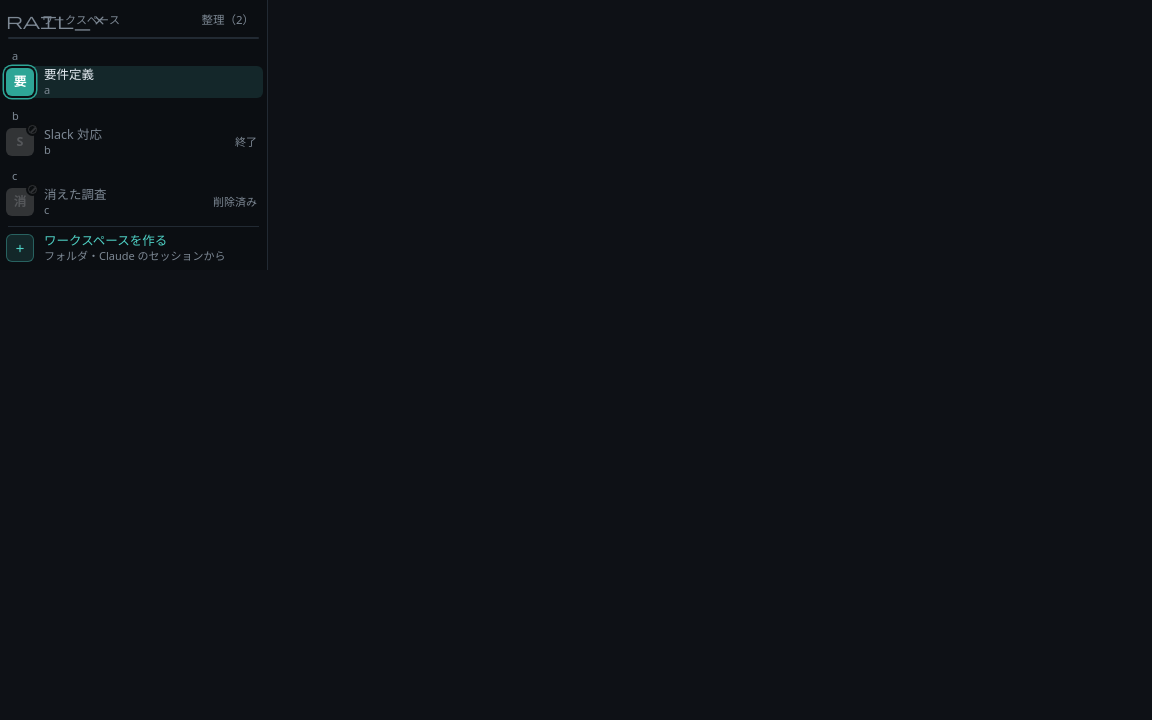
Claude のセッションの終わり › 開いた一覧では「終了」と出し、頭の「整理」から選んでまとめて削除する
Check: the text with class "mg-wsrail-state" reads "終了", box left=235, top=134, right=257, bottom=149
Check: the text with class "mg-wsrail-state" reads "削除済み", box left=213, top=194, right=257, bottom=209
Step 1. Click the button with class "mg-wsrail-tidy" → {"x": 228, "y": 20}, box left=194, top=9, right=261, bottom=31
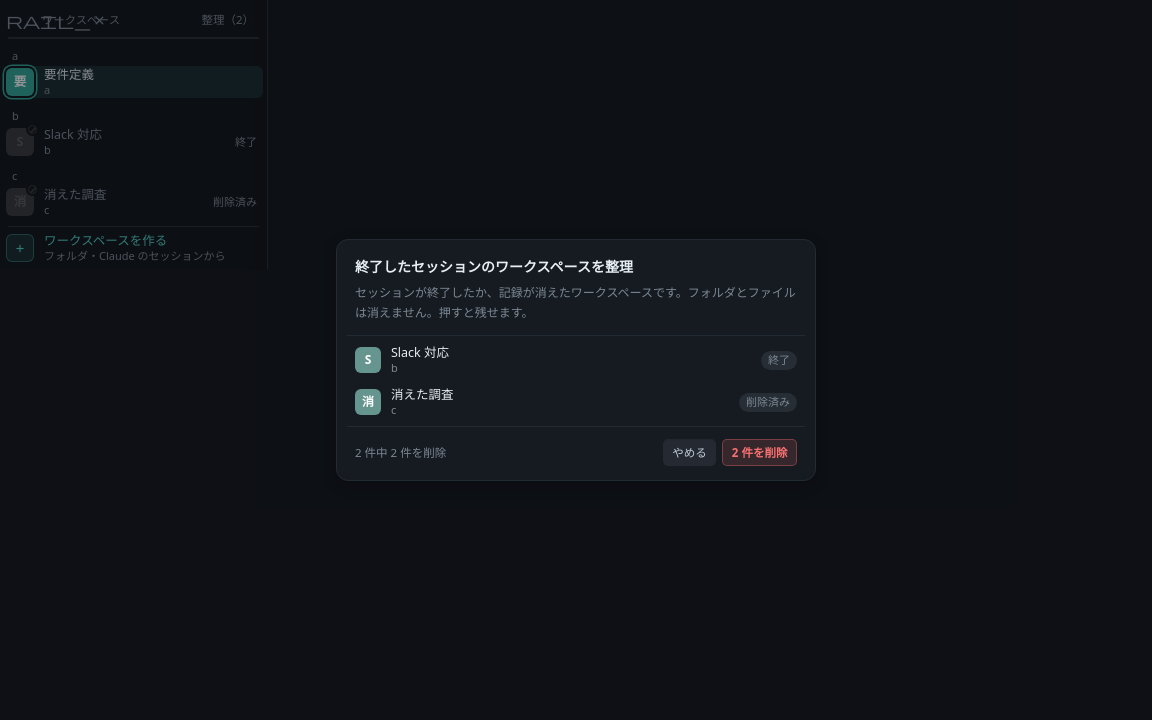
Check: the number of buttons with class "mg-tidy-row" is 2
Note: 1 件押すと「残す」に替わり、残りだけを削除する。
Step 2. Click the button with class "mg-tidy-row" showing "S Slack 対応 b 終了" → {"x": 420, "y": 352}, box left=347, top=340, right=805, bottom=380
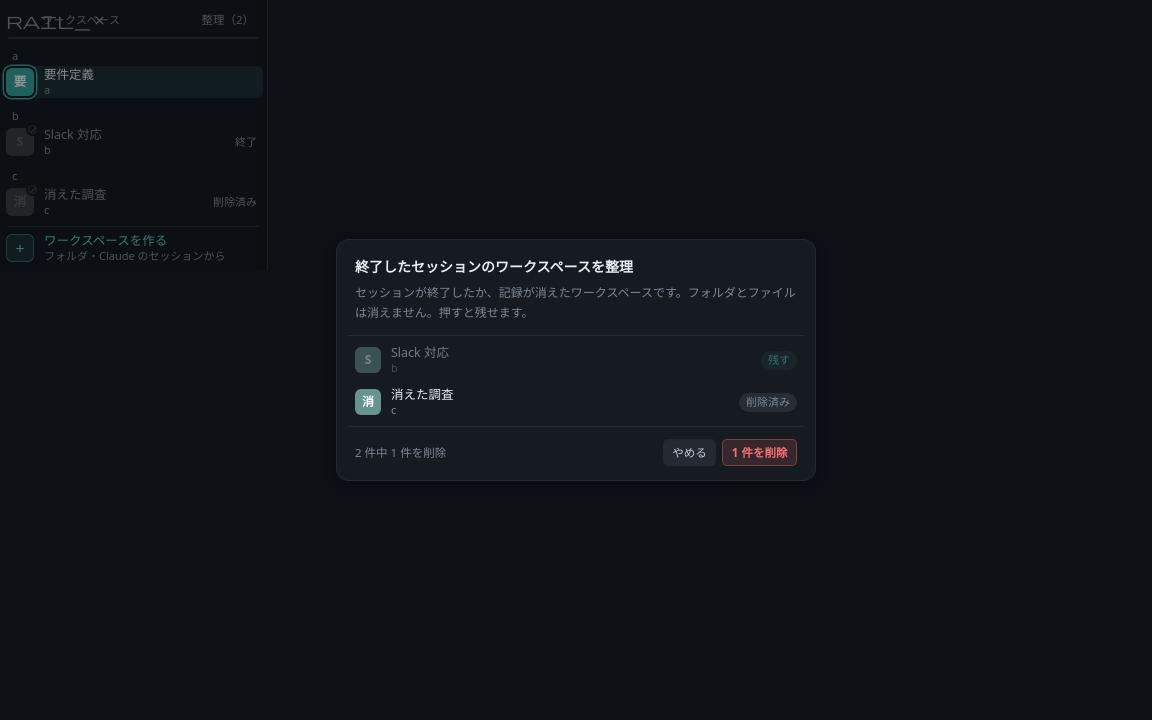
Check: the text with class "mg-tidy-tag" reads "残す", box left=768, top=352, right=790, bottom=367
Check: the button "1 件を削除" is shown
Step 3. Click the button "1 件を削除" → {"x": 760, "y": 453}, box left=722, top=440, right=797, bottom=466
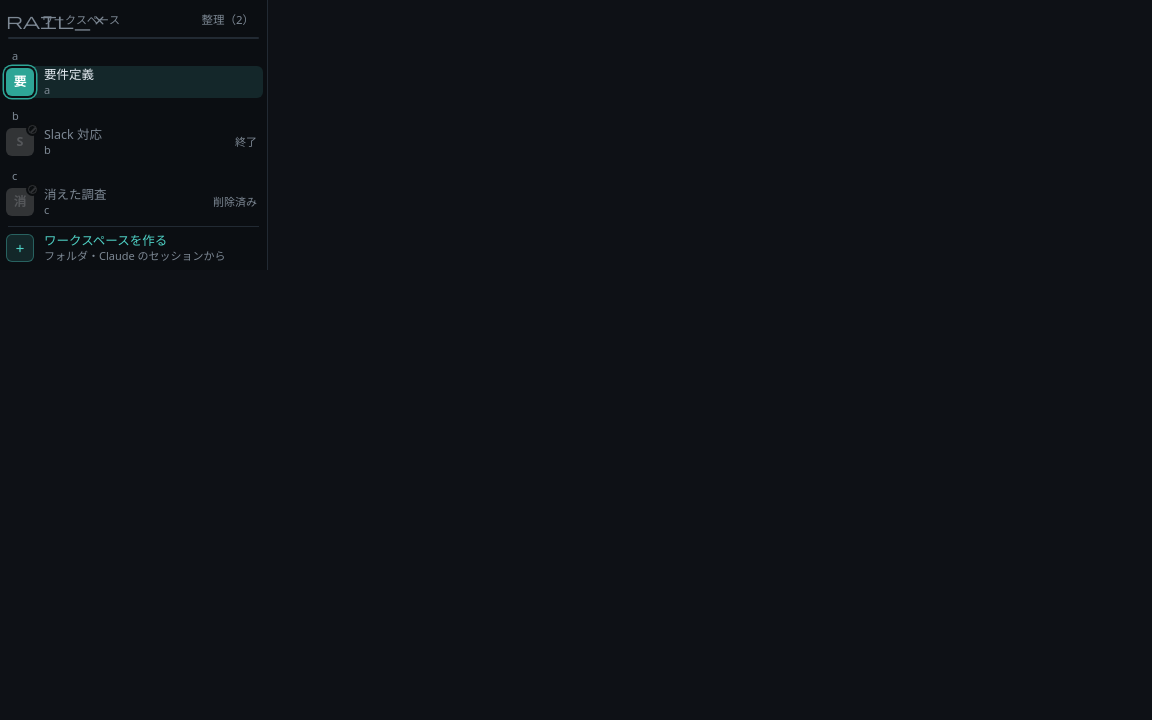
Check: the dialog is gone
